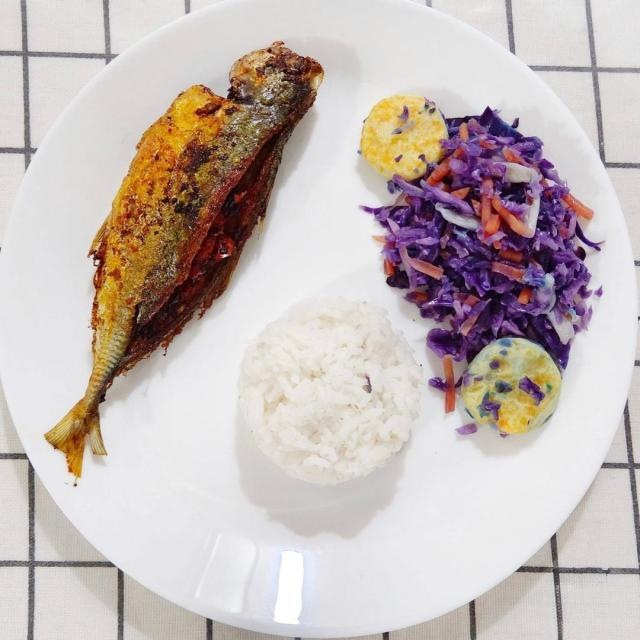Fish: (43, 41, 324, 481)
Plate: (510, 419, 639, 639)
Rice: (234, 299, 424, 482)
Vegetables: (359, 99, 603, 438)
